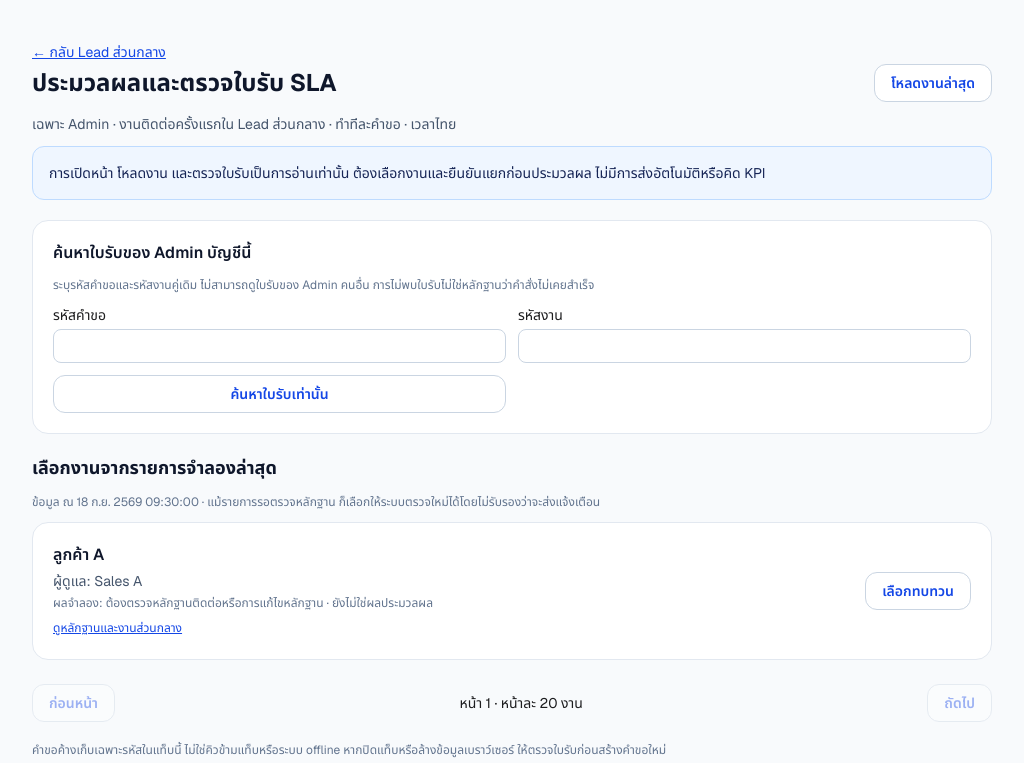
Test case: Admin explicit first-contact processing and historical receipt UI › held CONTACT_REVIEW remains selectable and can yield a proven completion without claiming KPI credit
The width and height of the screenshot is (1024, 763).
Expected: the heading "ประมวลผลและตรวจใบรับ SLA" is shown, [32,67,337,99]
Expected: the button "โหลดงานล่าสุด" is enabled, [874,64,992,102]
Click the button with aria-label "ทบทวนงานของ ลูกค้า A" at point(918, 591), box [865,572,971,610]
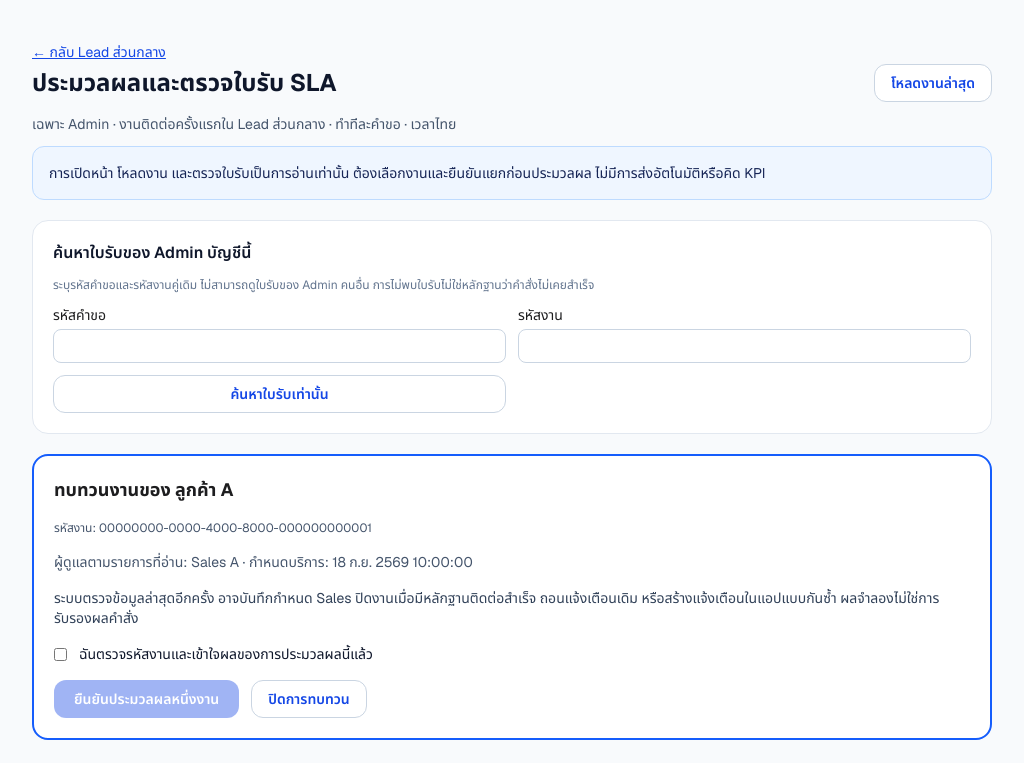
Click the checkbox labelled "ฉันตรวจรหัสงานและเข้าใจผลของการประมวลผลนี้แล้ว" at point(60, 654), box [54,648,67,661]
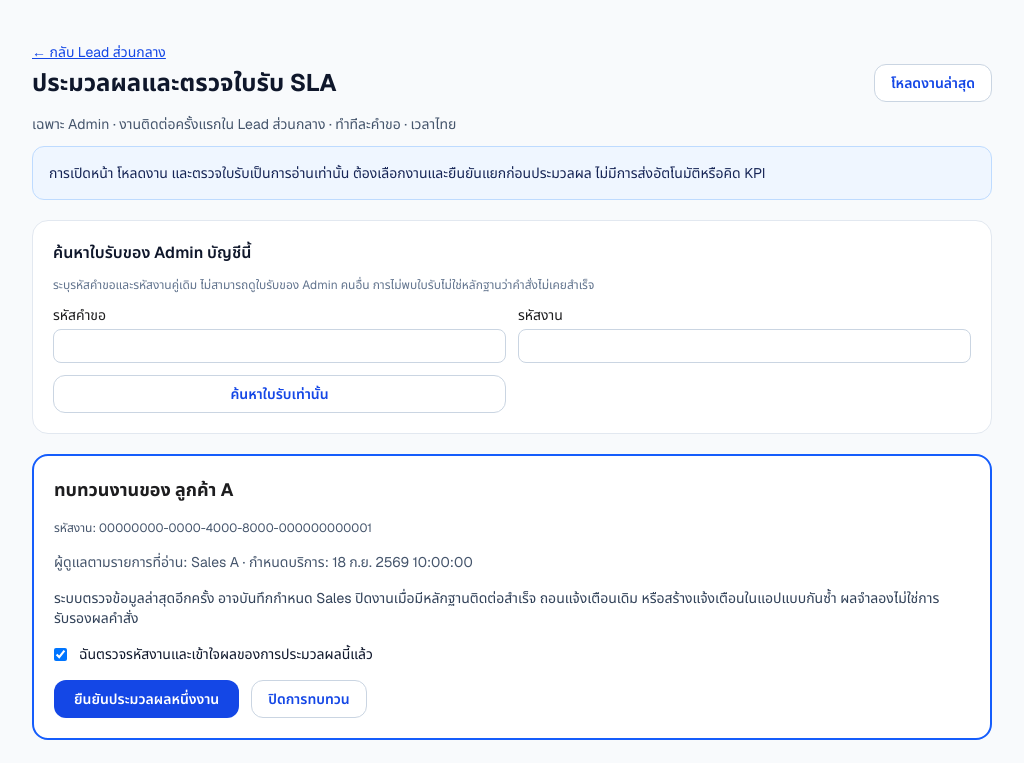
Click the button "ยืนยันประมวลผลหนึ่งงาน" at point(147, 699), box [54,680,239,718]
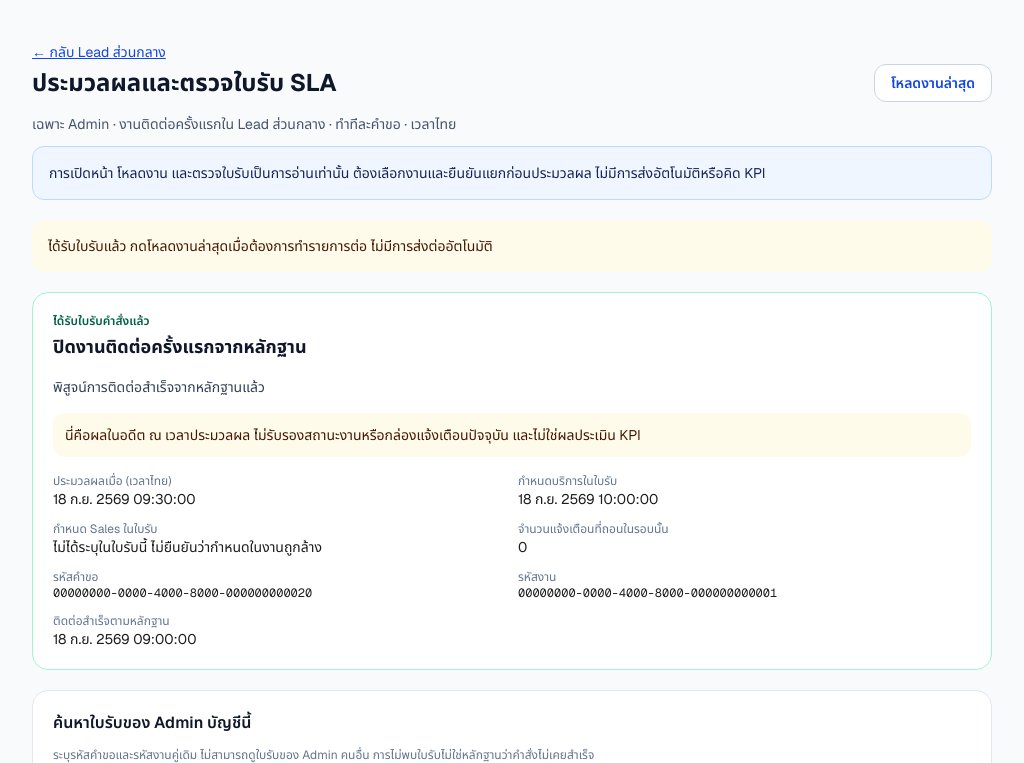
Expected: the heading "ปิดงานติดต่อครั้งแรกจากหลักฐาน" is shown, [53,335,307,358]
Expected: the text "ไม่ใช่ผลประเมิน KPI" is shown, [65,426,641,444]
Expected: the text "ไม่ได้ระบุในใบรับนี้ ไม่ยืนยันว่ากำหนดในงานถูกล้าง" is shown, [53,538,322,556]
